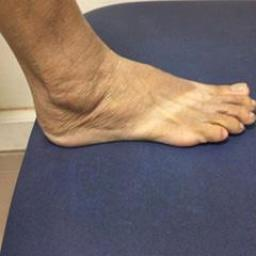Lateral View -Right Foot-: (5, 22, 255, 166)
